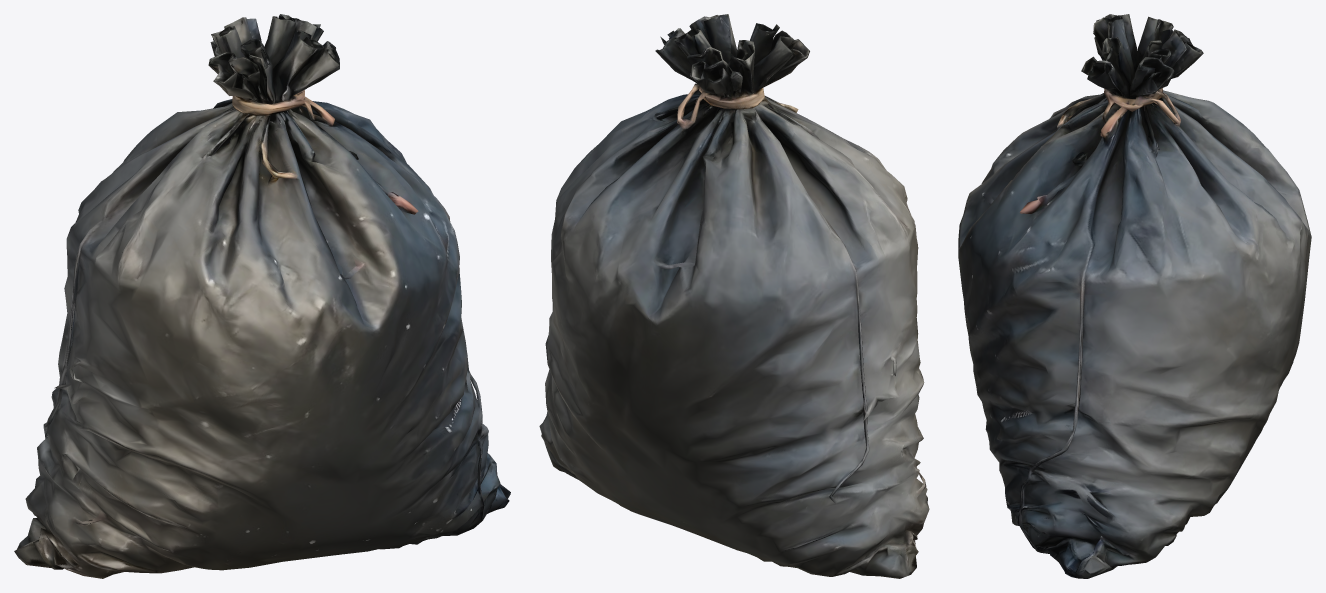
Rendered from garbage_bag_a.glb.
3 renders of one model, left to right at view 1: azimuth 30°, elevation 25°; view 2: azimuth 150°, elevation 25°; view 3: azimuth 270°, elevation 25°, orthographic. The views are drawn at different scales.
Parts seen in each view (by area): view 1: garbage_bag_a / mesh; view 2: garbage_bag_a / mesh; view 3: garbage_bag_a / mesh.
Boxes of the visible parts, x1,y1,x2,y2 form: garbage_bag_a / mesh: [14, 14, 510, 578]; garbage_bag_a / mesh: [539, 14, 929, 578]; garbage_bag_a / mesh: [958, 14, 1311, 578].
Bounding box in the file's own units: 0.6074 × 0.68 × 0.4702.
1 material, 1 textured.
